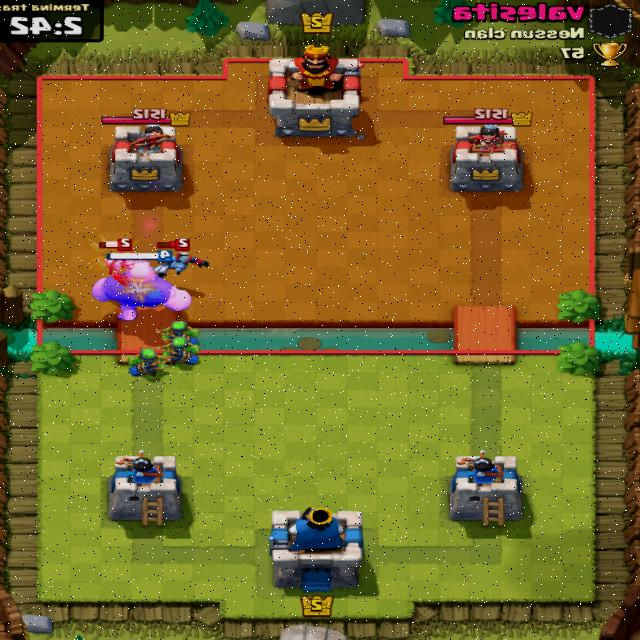Enemy-Minion: (155, 238, 198, 277)
Player-Giant: (83, 251, 191, 324)
Player-SpearGoblin: (158, 324, 201, 364), (130, 350, 179, 379)
